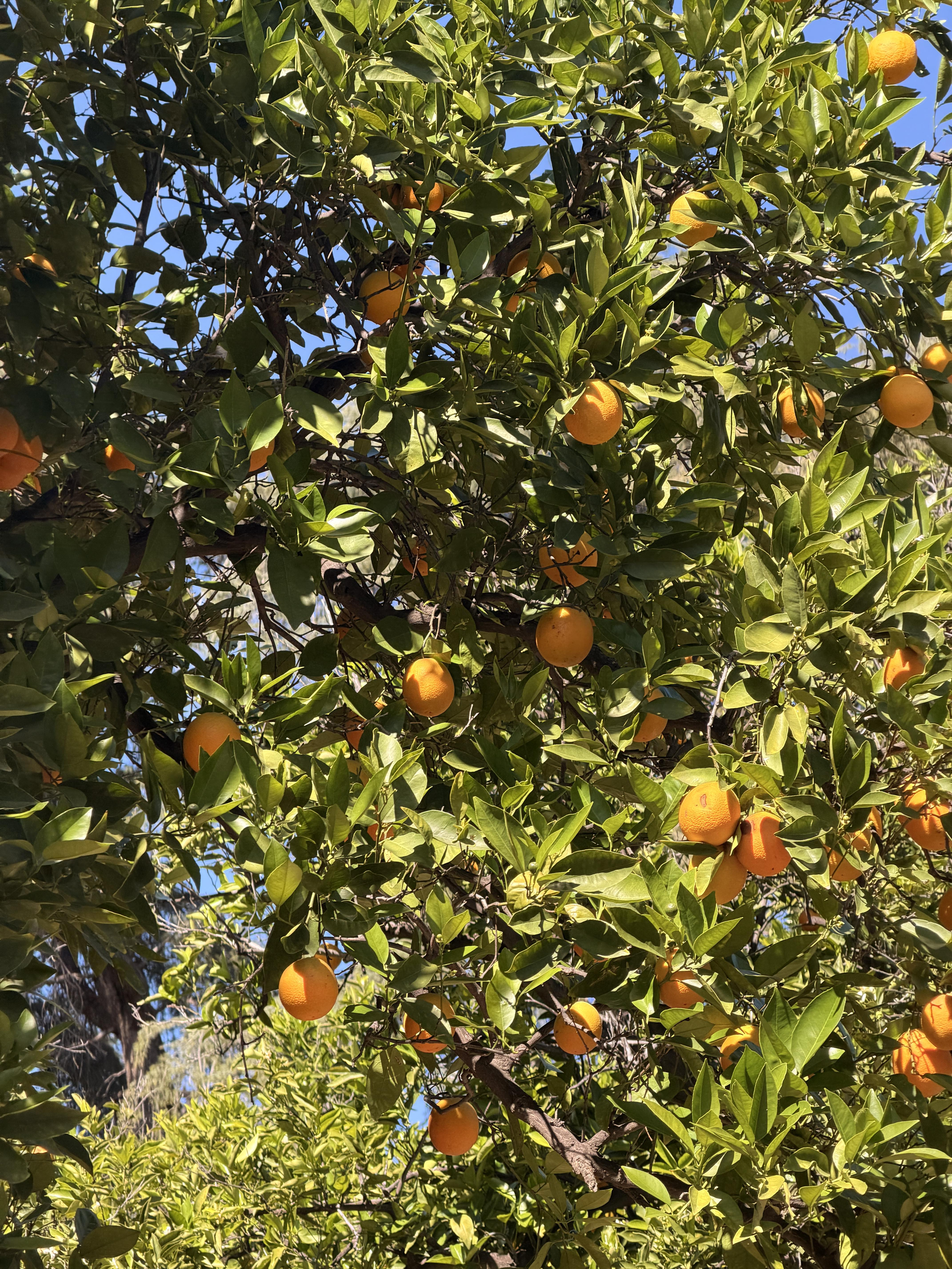orange: (679, 781, 741, 846), (892, 1029, 952, 1096), (565, 379, 622, 445), (279, 957, 338, 1020), (655, 946, 713, 1009), (182, 712, 242, 772), (736, 812, 791, 877), (536, 606, 593, 667), (539, 531, 598, 587), (403, 993, 457, 1053), (403, 657, 454, 717), (878, 374, 933, 429), (507, 249, 563, 302), (822, 826, 875, 882), (428, 1098, 479, 1156), (359, 271, 412, 325), (907, 789, 952, 851), (553, 1000, 603, 1055), (892, 771, 939, 829), (868, 30, 917, 85), (670, 191, 718, 247), (778, 382, 825, 437), (700, 853, 749, 903), (633, 683, 669, 742), (883, 646, 929, 691), (0, 426, 42, 475), (345, 701, 384, 750), (719, 1024, 760, 1070), (920, 994, 952, 1051), (398, 181, 444, 211), (922, 342, 952, 383), (402, 537, 428, 576), (0, 407, 18, 456), (105, 444, 135, 473), (250, 438, 275, 472), (314, 942, 343, 971), (865, 804, 882, 847), (0, 464, 26, 489), (938, 887, 952, 933), (42, 766, 62, 786)
